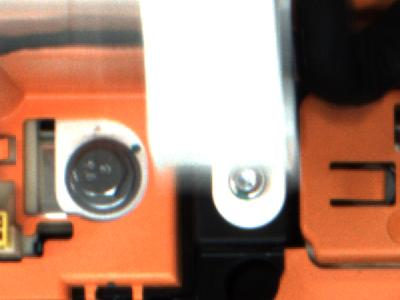nut_b: (63, 138, 138, 214)
